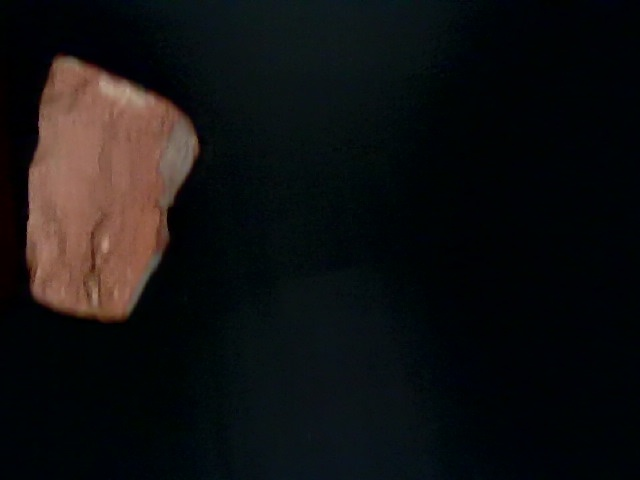KHSLJ: (1, 1, 310, 283)
